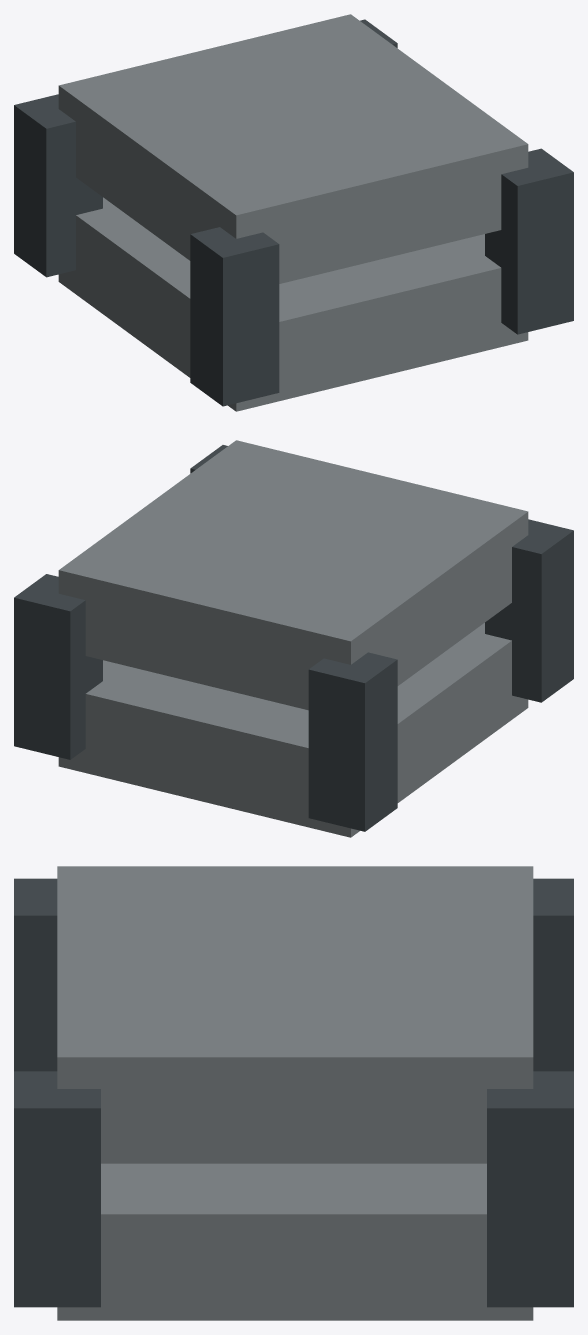
The model's file is Bracer 04.FBX.
3 renders of one model, top to bottom at view 1: azimuth 30°, elevation 25°; view 2: azimuth 150°, elevation 25°; view 3: azimuth 270°, elevation 25°, orthographic. The views are drawn at different scales.
Parts seen in each view (by area): view 1: Bracer 04; view 2: Bracer 04; view 3: Bracer 04.
Part boxes in pixels (left/top/right/bottom): Bracer 04: left=14, top=14, right=573, bottom=411; Bracer 04: left=14, top=440, right=573, bottom=837; Bracer 04: left=14, top=866, right=573, bottom=1320.
Bounding box in the file's own units: 20.75 × 11.09 × 21.38.
Materials: 1 (1 with a texture image).
